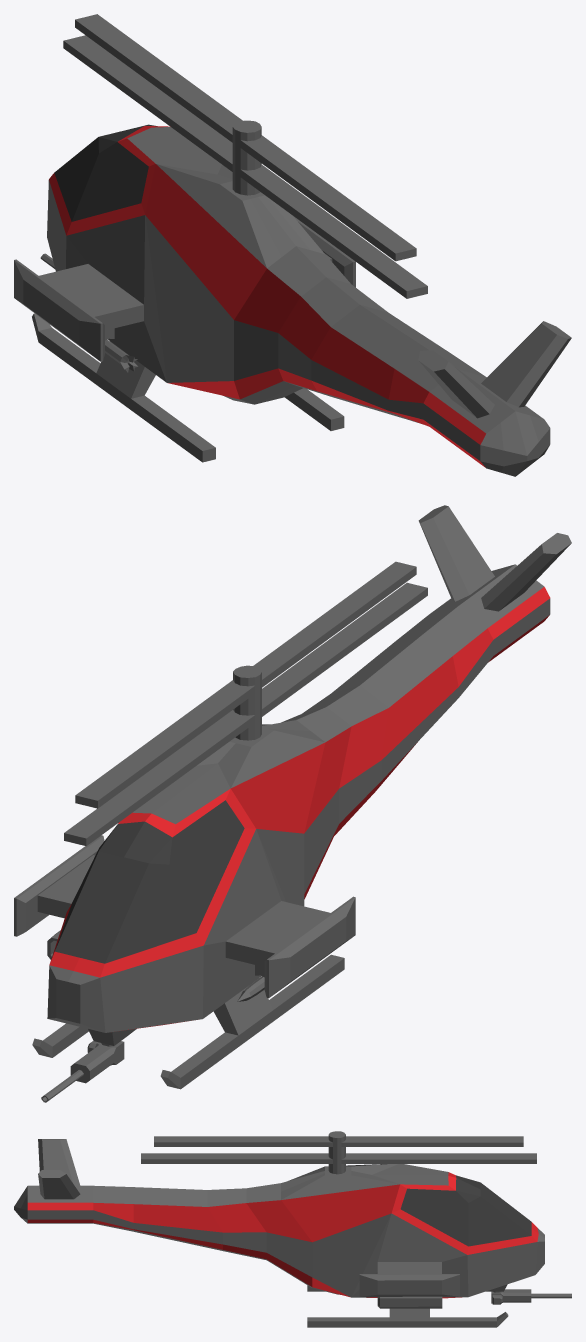
The model's file is Attackheli.fbx.
3 renders of one model, top to bottom at view 1: azimuth 30°, elevation 25°; view 2: azimuth 150°, elevation 25°; view 3: azimuth 270°, elevation 25°, orthographic. The views are drawn at different scales.
Visible parts, largest first — view 1: Cube; view 2: Cube; view 3: Cube.
Part boxes in pixels (bbox=[...]): Cube: bbox=[14, 14, 571, 476]; Cube: bbox=[14, 505, 571, 1102]; Cube: bbox=[14, 1131, 571, 1327].
Bounding box in the file's own units: 920 × 985 × 2877.
